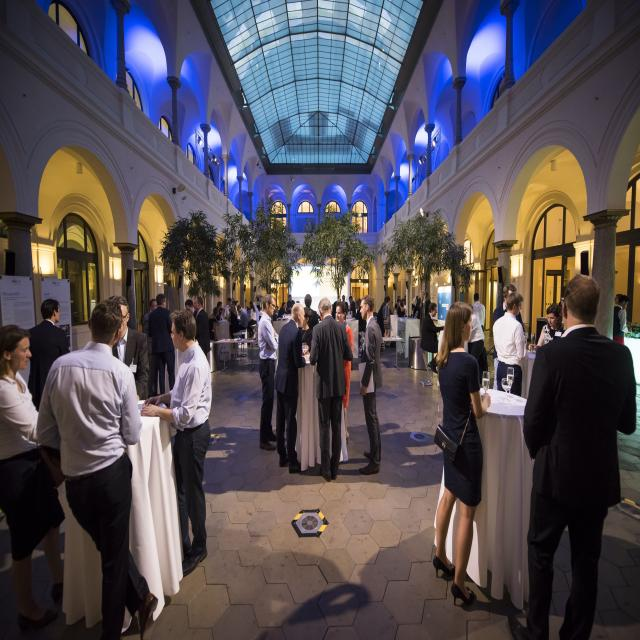body: (520, 272, 638, 640), (34, 297, 160, 640), (0, 322, 66, 633), (139, 308, 213, 580), (430, 300, 492, 608), (308, 295, 353, 482), (272, 302, 310, 475), (28, 298, 70, 412), (107, 294, 150, 405), (358, 294, 383, 476), (492, 292, 526, 397), (184, 294, 306, 323), (330, 288, 428, 324), (257, 294, 279, 451), (147, 293, 175, 408), (335, 300, 354, 444), (418, 301, 446, 375), (142, 298, 161, 400), (528, 303, 565, 353), (492, 283, 526, 336), (193, 296, 211, 358), (612, 294, 632, 346), (468, 304, 485, 362), (303, 293, 320, 331), (354, 300, 366, 350), (227, 303, 240, 349), (301, 306, 313, 355), (472, 293, 486, 334), (376, 296, 387, 337), (382, 295, 392, 337), (208, 306, 220, 341), (419, 291, 432, 322), (247, 301, 257, 338), (413, 290, 425, 319), (236, 304, 249, 330), (224, 297, 238, 320), (332, 297, 341, 320), (215, 301, 225, 321), (286, 294, 296, 314), (348, 295, 356, 319), (341, 295, 348, 321), (396, 300, 405, 318), (614, 294, 621, 306)
